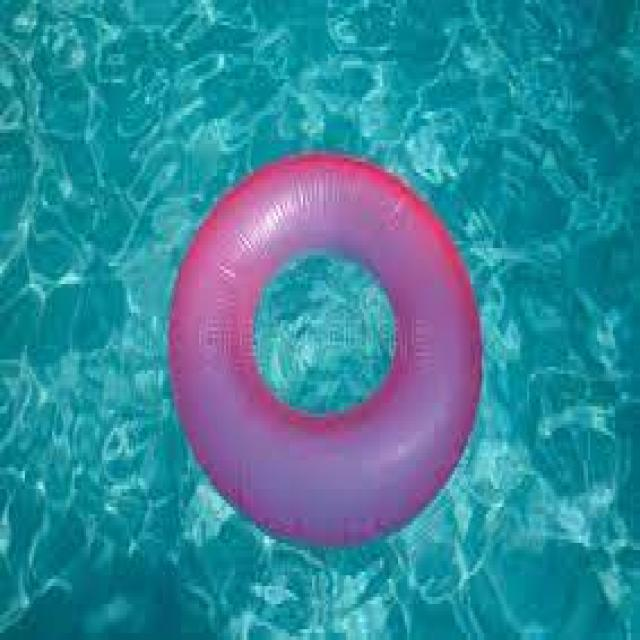lifesaver: (167, 154, 483, 551)
